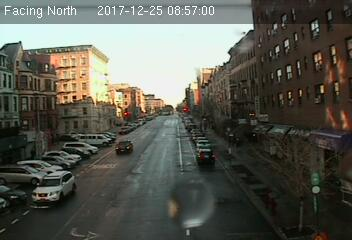car: (31, 171, 74, 203), (196, 149, 216, 165), (114, 141, 134, 153)
